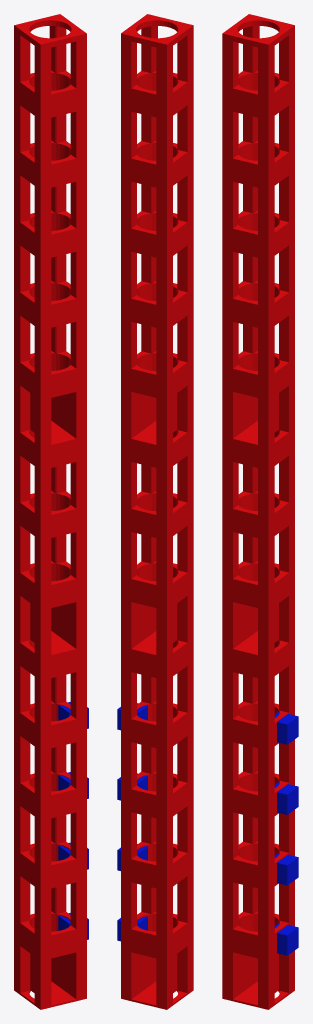
Rendered from brazo.dae.
The picture shows the model from 3 angles, left to right: view 1: azimuth 30°, elevation 25°; view 2: azimuth 150°, elevation 25°; view 3: azimuth 330°, elevation 25°; orthographic projection.
Visible parts, largest first — view 1: Cube; view 2: Cube; view 3: Cube.
Part boxes in pixels (x1,y1,x2,y2): Cube: (14,14,88,1009); Cube: (117,14,193,1009); Cube: (222,14,298,1009).
Size of the model in its own units: 0.0613 by 0.05 by 1.
